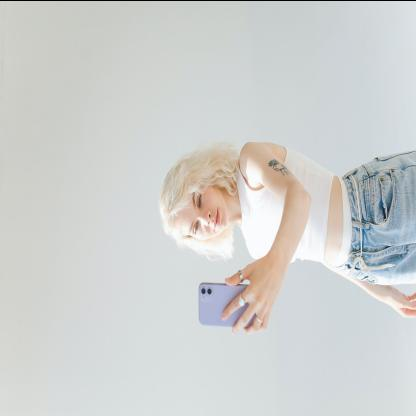Eye: (193, 218, 201, 236), (196, 191, 204, 209)
Mouth: (212, 207, 221, 231)
Nose: (198, 208, 212, 226)
